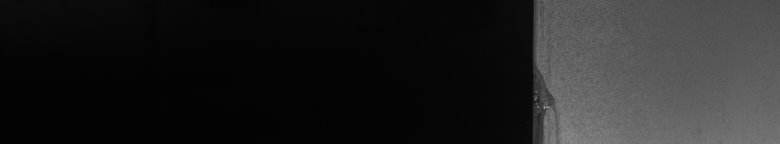hb: (544, 80, 564, 136)
